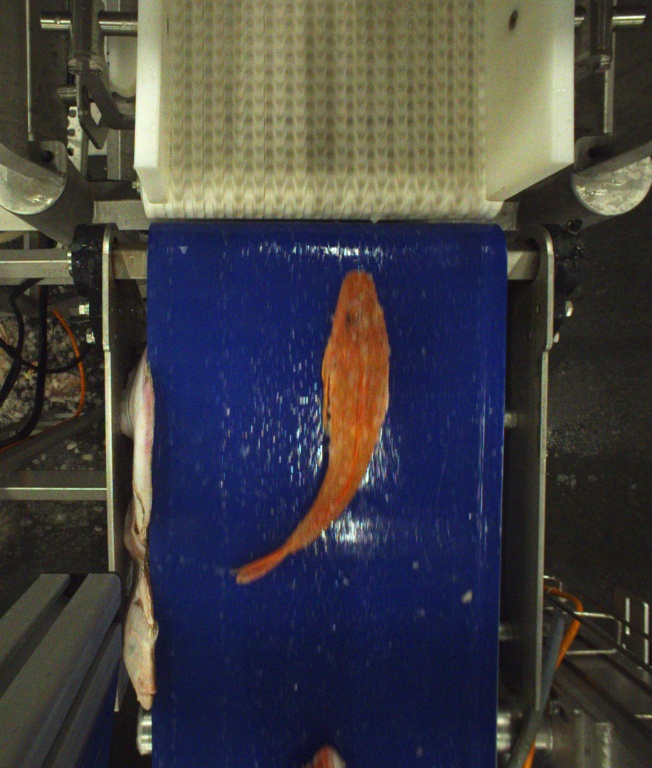GUU: (236, 269, 391, 585)
